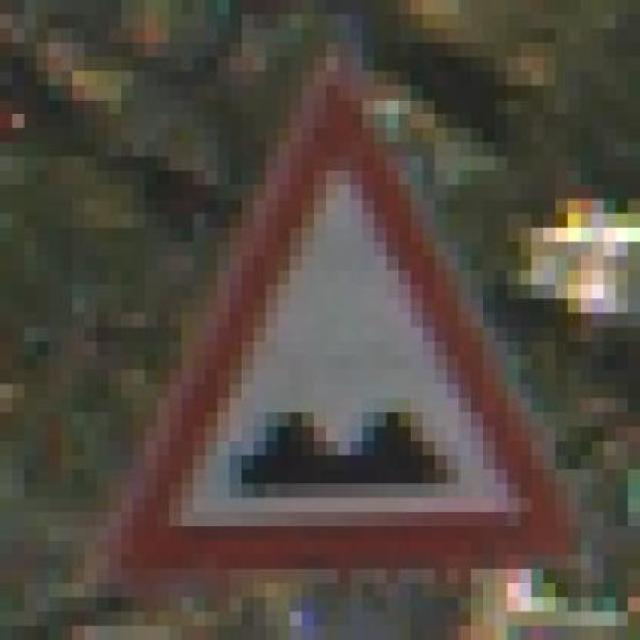Uneven Road: (100, 51, 582, 577)
